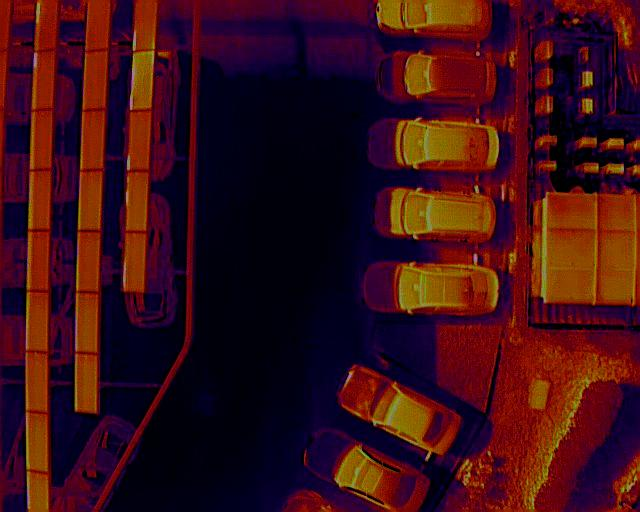No-Anomaly: (29, 106, 55, 171), (80, 108, 106, 171), (78, 170, 103, 235), (75, 289, 100, 354), (82, 51, 108, 112), (76, 230, 101, 293), (28, 170, 52, 233), (26, 291, 50, 352), (75, 353, 98, 416), (26, 352, 48, 417), (27, 230, 50, 292), (28, 411, 48, 472), (86, 0, 108, 51)
Unclassified: (129, 52, 156, 112), (120, 231, 145, 294), (127, 109, 151, 174), (125, 172, 150, 233), (33, 50, 57, 113), (34, 0, 58, 52), (133, 0, 156, 51)
